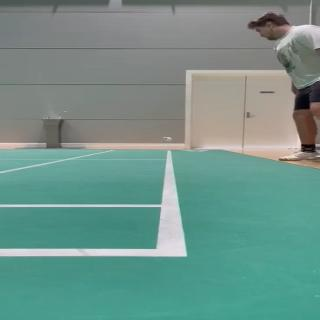Shuttle: (163, 137, 172, 142)
